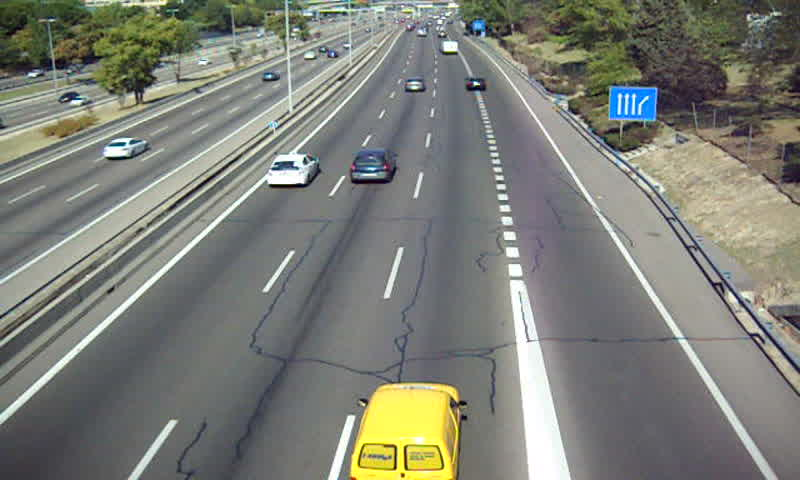car: (265, 154, 320, 186), (351, 150, 396, 180), (403, 76, 426, 92), (465, 78, 487, 92)
van: (350, 383, 462, 480), (442, 41, 460, 53)
